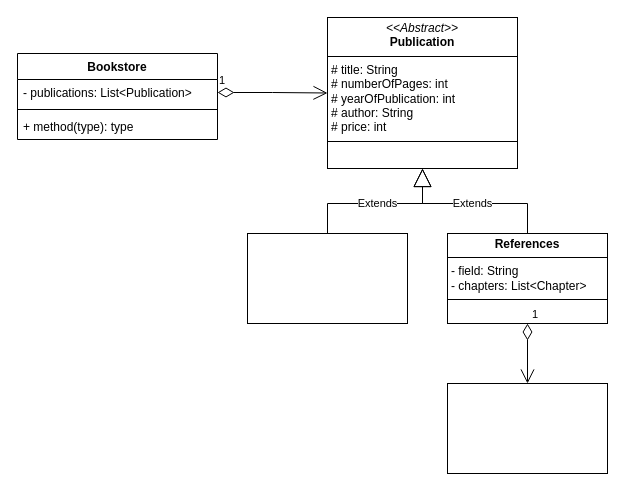
Image size: 625x491. Some labels were removed from this diagram. Here are the shapes that lost their labels. From the top down, the box of each, then its label:
(246, 232, 408, 324): Magazine - name: string
(446, 382, 608, 474): Chapter - title: String - numberOfPages: int
